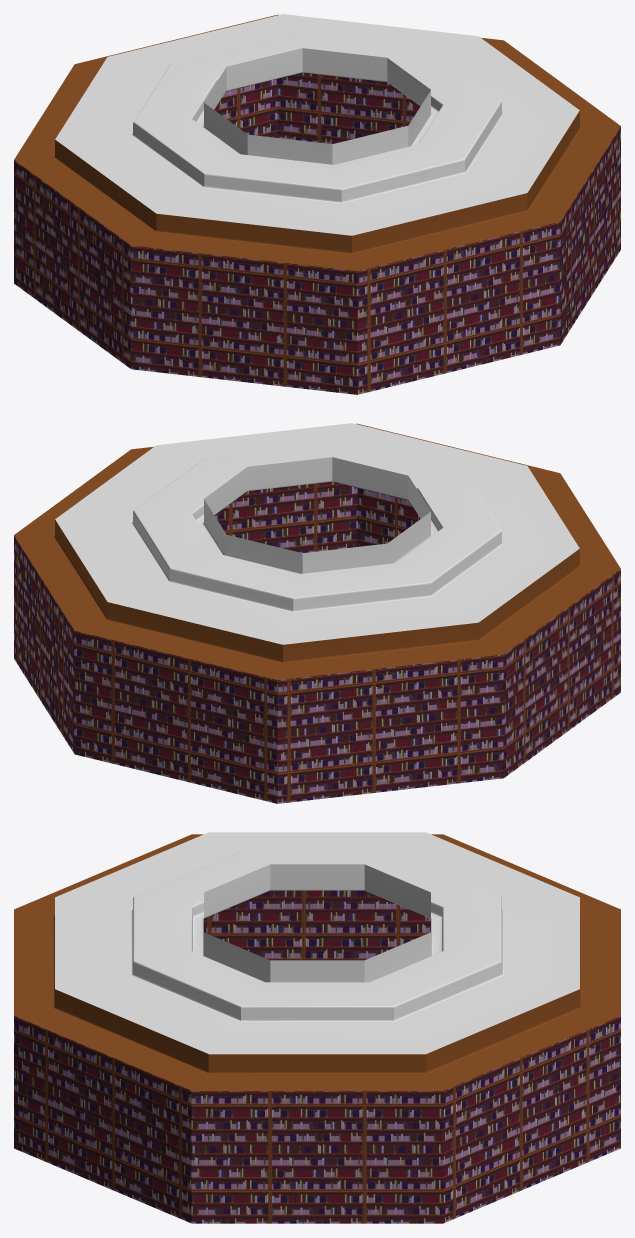
The model's file is lib2.fbx.
3 views of the same model, one above another, from view 1: azimuth 30°, elevation 25°; view 2: azimuth 150°, elevation 25°; view 3: azimuth 270°, elevation 25° (orthographic). The views are drawn at different scales.
Parts seen in each view (by area): view 1: polySurface98; view 2: polySurface98; view 3: polySurface98.
Part boxes in pixels (bbox=[...]): polySurface98: bbox=[14, 14, 620, 394]; polySurface98: bbox=[14, 423, 620, 803]; polySurface98: bbox=[14, 832, 620, 1223].
Bounding box in the file's own units: 33.28 × 11.26 × 33.28.
